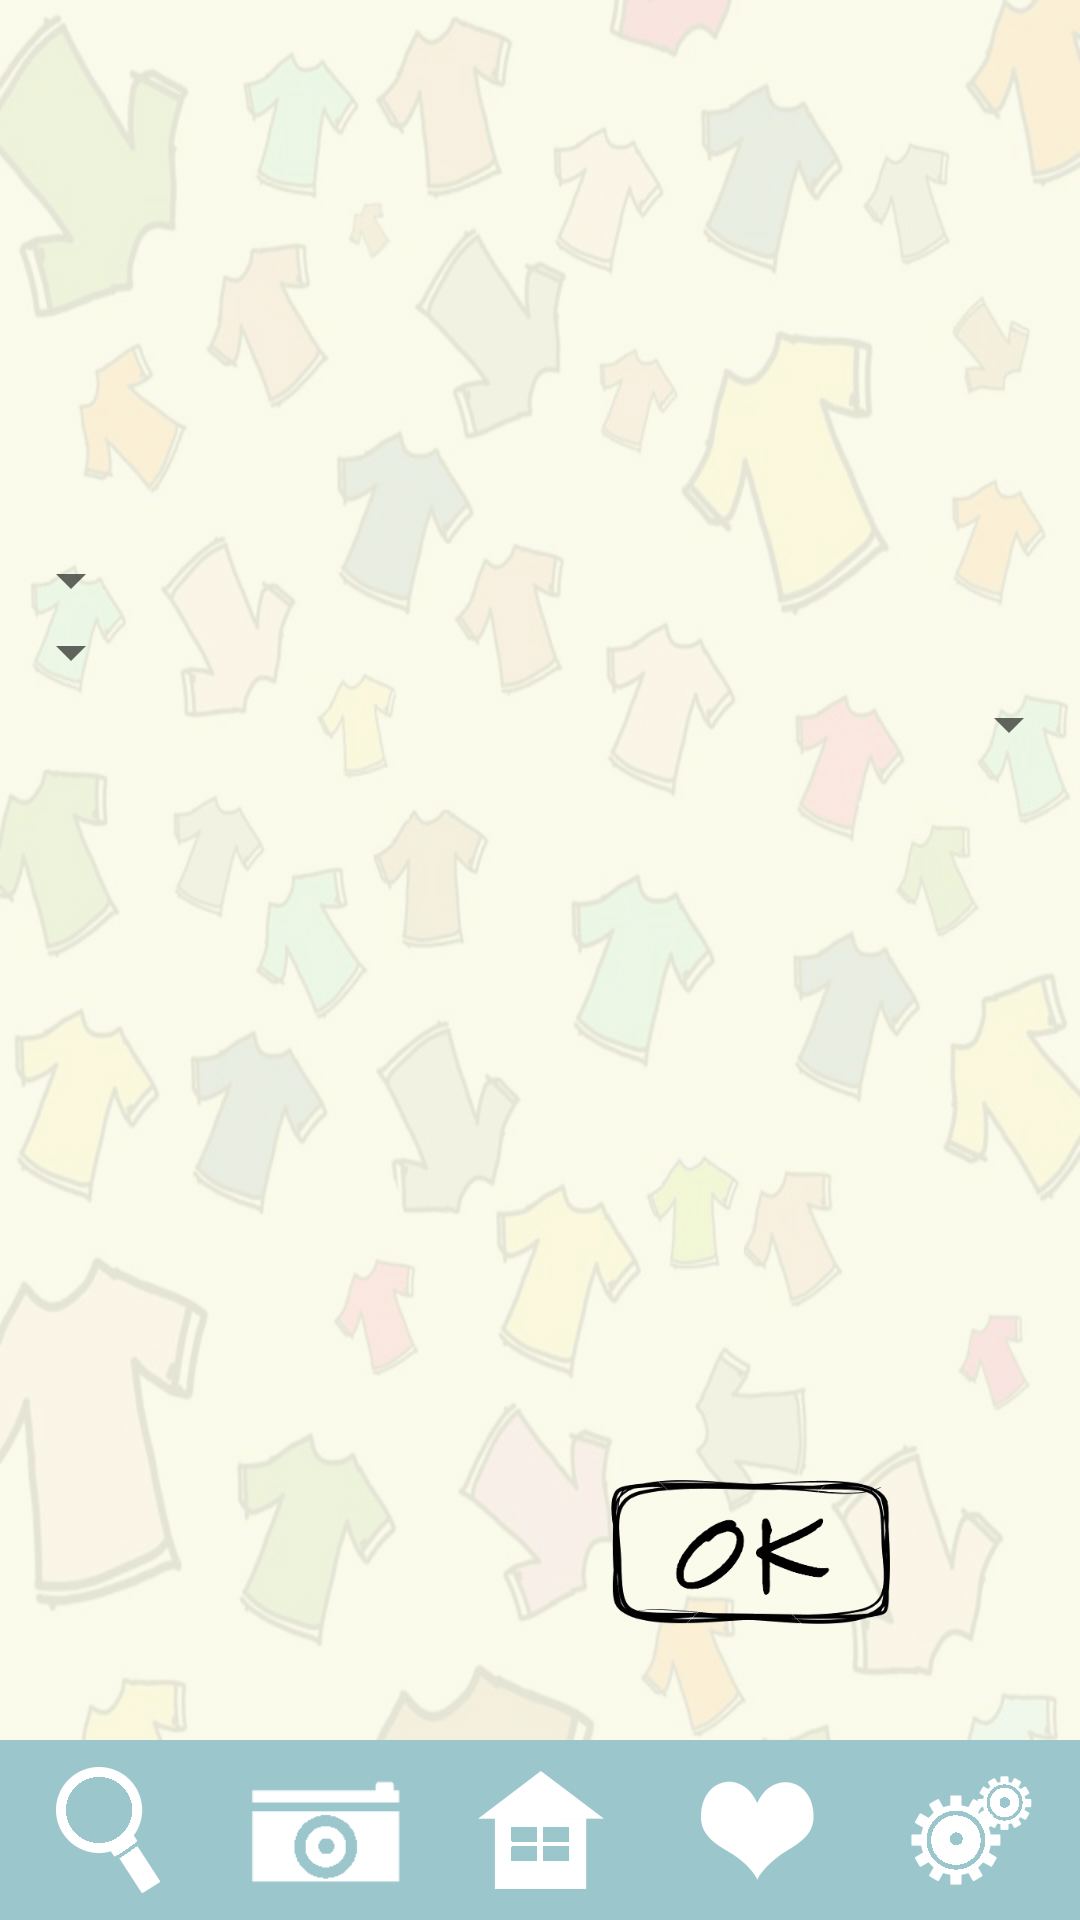

Screen size 1080w x 1920h. Icon name, then its box in pixels as (x1,y1,x2,y2):
home: (478,1771,604,1889)
like: (701,1781,814,1880)
search: (56,1767,160,1893)
setting: (911,1776,1032,1885)
